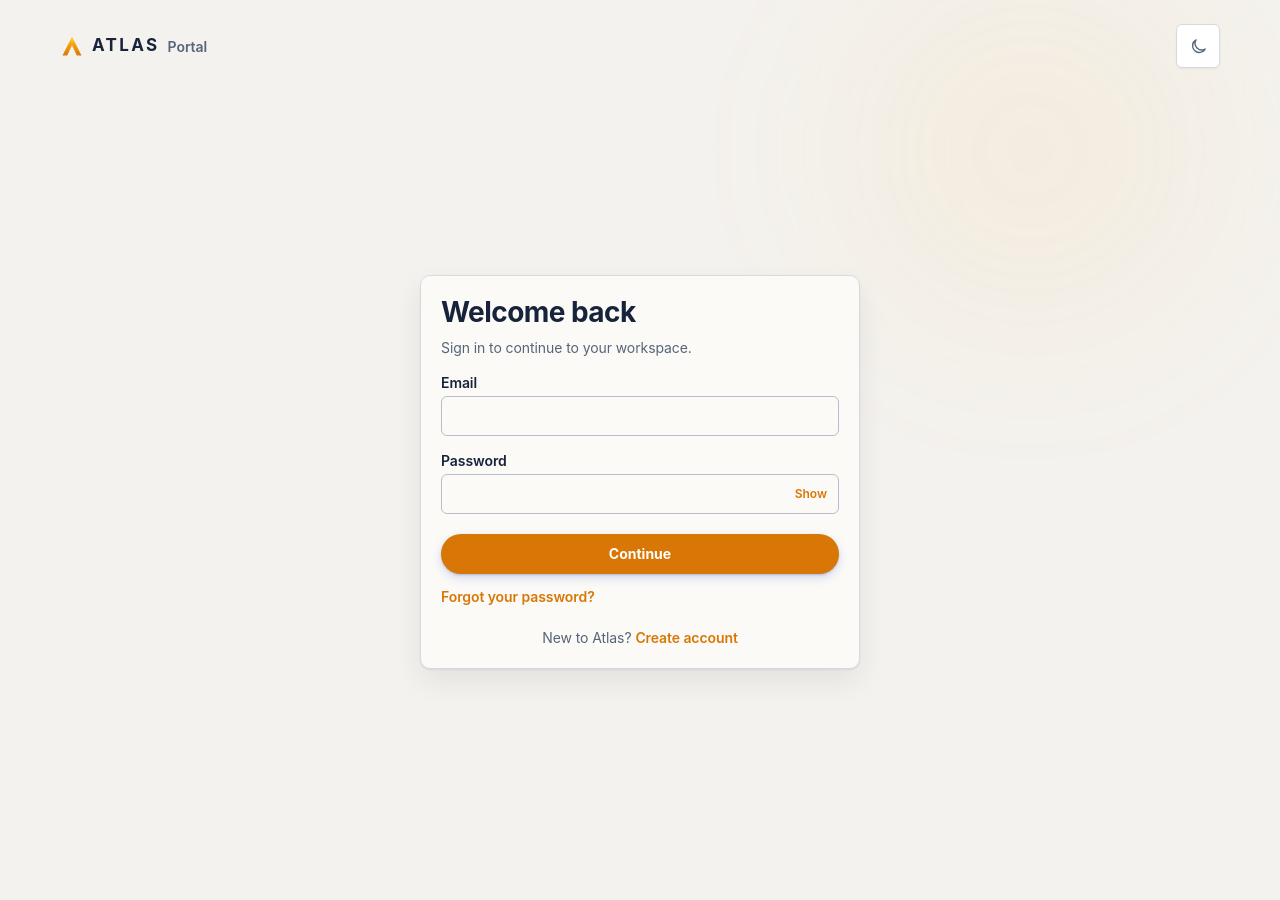
does not present a backend outage as invalid credentials
Expected: the heading "Welcome back" is shown, [441,294,636,328]
Type "customer@example.test" into the field labelled "Email" at (640, 416), box [441,396,839,436]
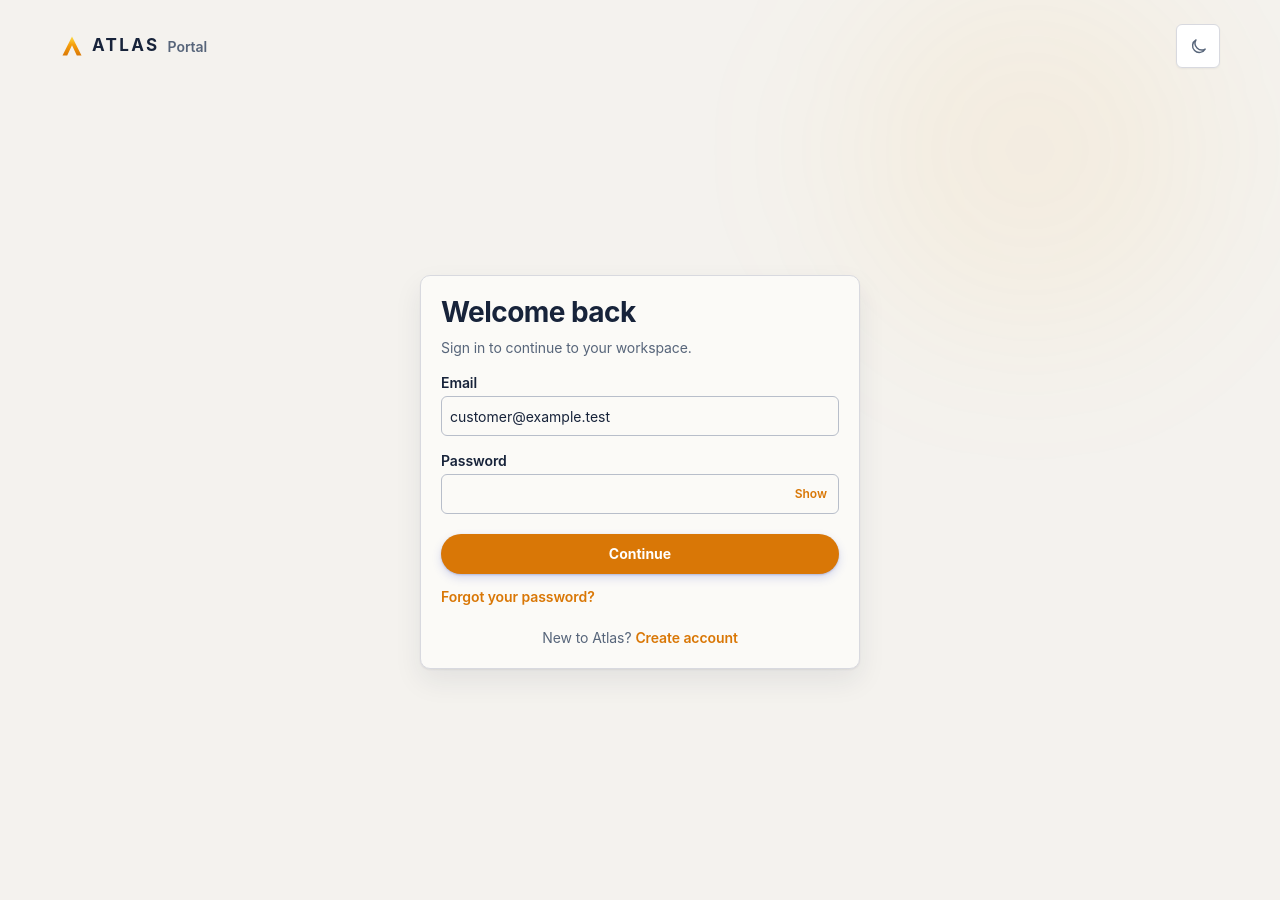
Type "a secure password" into the password field labelled "Password" at (640, 494), box [441,474,839,514]
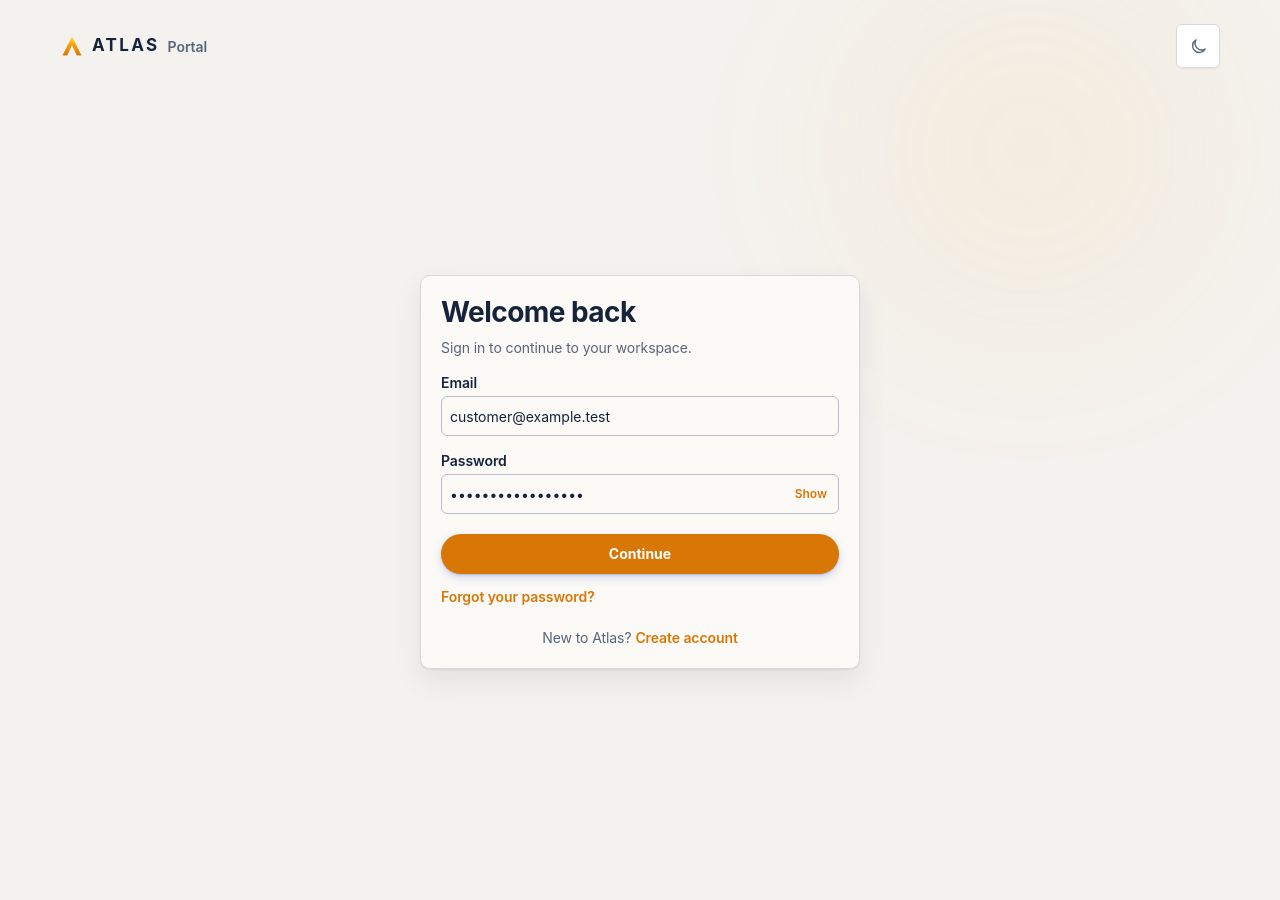
Click the button "Continue" at (640, 554), box [441,534,839,574]
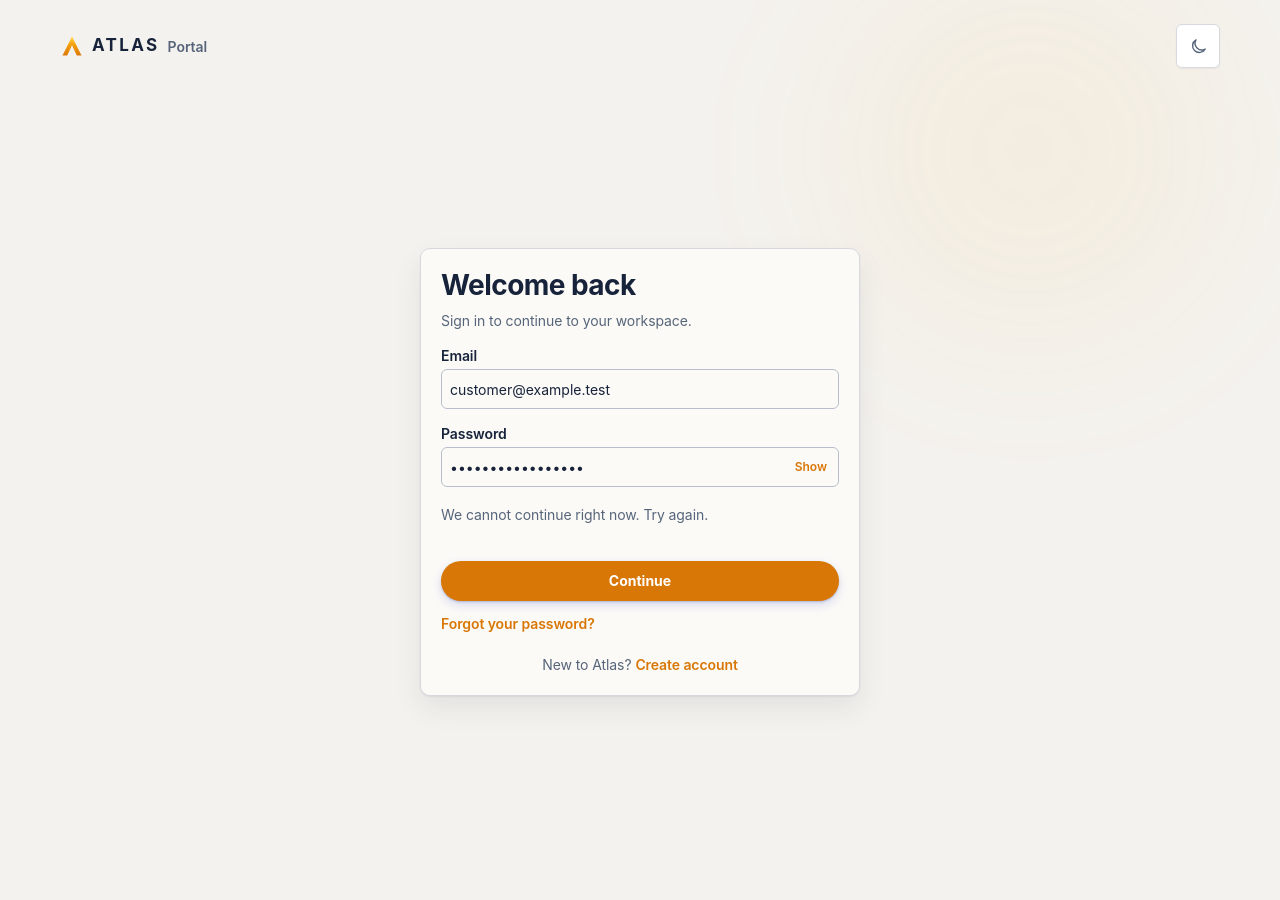
Result: the message reads "We cannot continue right now. Try again." at [441,506,708,523]
